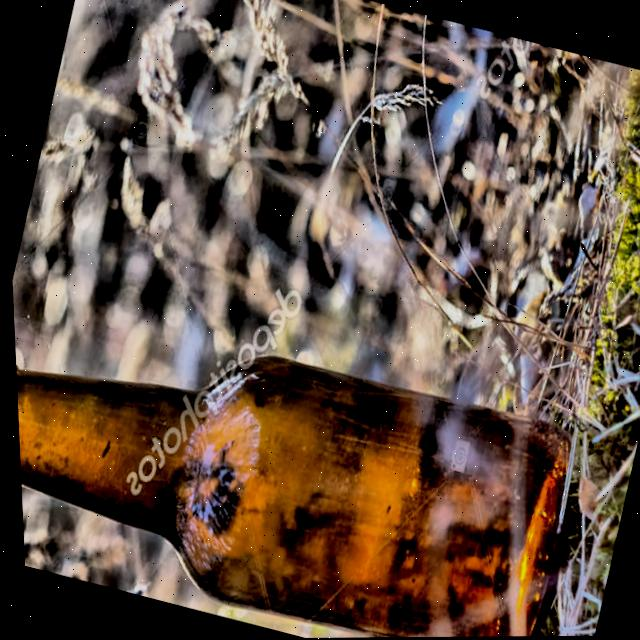glass: (13, 357, 569, 638)
